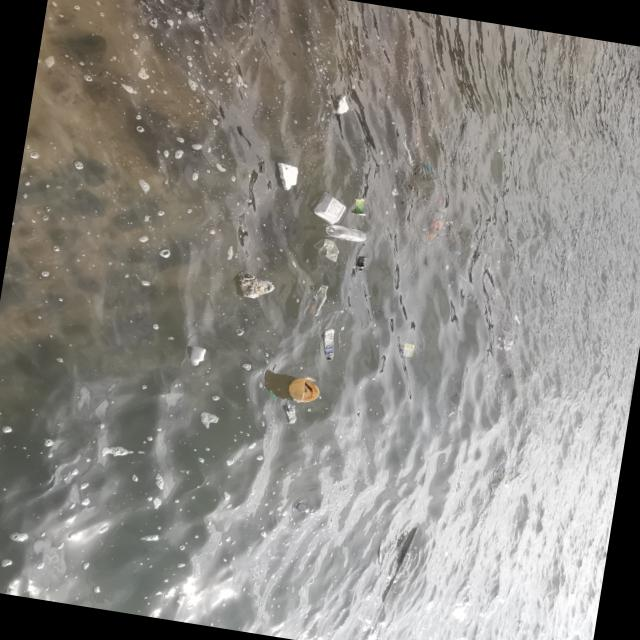can: (348, 196, 369, 218), (294, 502, 308, 512)
foam: (310, 192, 348, 226), (270, 162, 300, 192), (332, 92, 351, 114)
plastic: (233, 270, 277, 302), (286, 375, 322, 406), (322, 224, 367, 244), (305, 283, 328, 318), (318, 328, 338, 362), (186, 346, 207, 368), (281, 402, 298, 424)
plastic bottle: (400, 342, 414, 358)
unknow: (309, 237, 340, 263), (425, 218, 444, 240), (420, 160, 434, 178), (354, 255, 366, 272)
